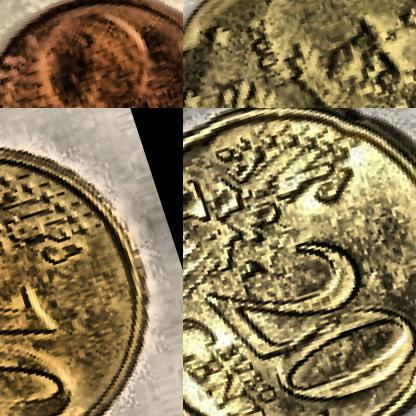coin: (183, 108, 415, 415), (0, 108, 182, 415), (183, 0, 415, 107), (0, 0, 182, 107)
